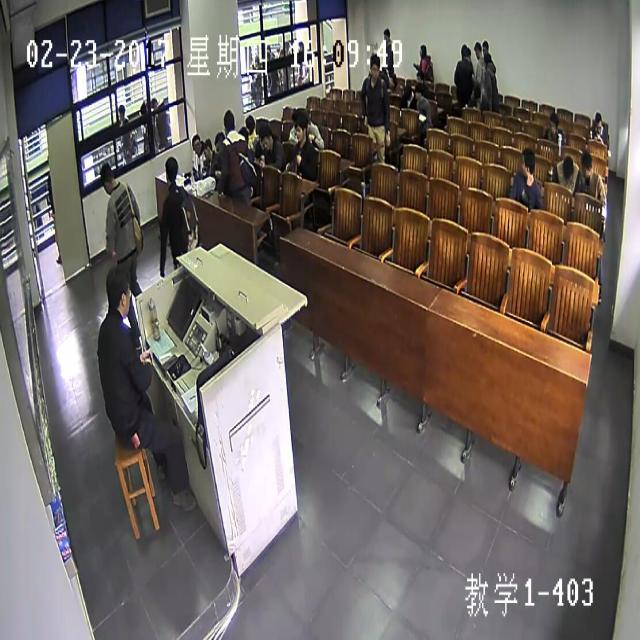person: (104, 269, 131, 319), (99, 162, 115, 192), (518, 148, 532, 176), (221, 111, 236, 136), (164, 158, 176, 185), (580, 152, 592, 179), (368, 53, 380, 78), (298, 106, 310, 130), (260, 128, 272, 150), (562, 157, 574, 178), (295, 118, 304, 144), (548, 110, 558, 133), (214, 132, 224, 154), (238, 123, 248, 145), (593, 110, 603, 132), (202, 138, 212, 159), (191, 133, 201, 152), (473, 81, 482, 100), (244, 115, 253, 133), (383, 26, 391, 45), (291, 108, 298, 129), (404, 81, 412, 98), (464, 43, 472, 60), (474, 40, 481, 58), (482, 50, 491, 64), (414, 84, 422, 98), (460, 44, 467, 60), (416, 68, 422, 84), (418, 42, 424, 55), (482, 39, 488, 51)
